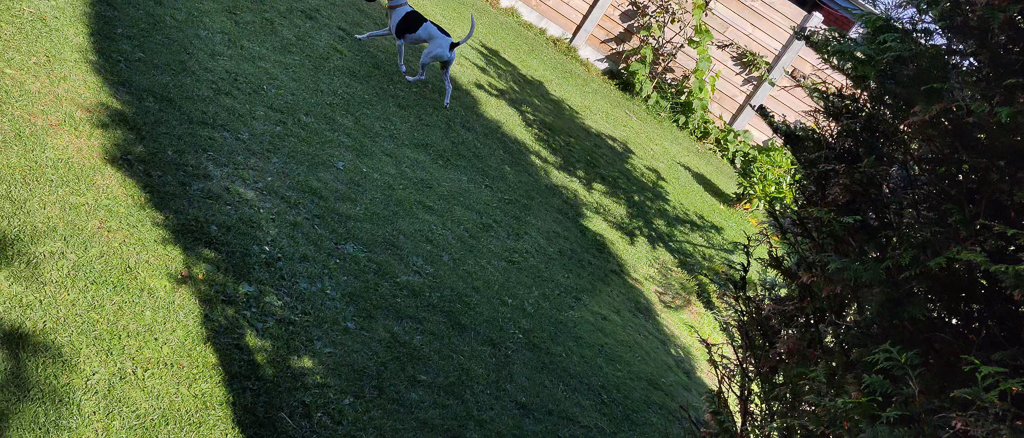Dog: (345, 0, 485, 117)
